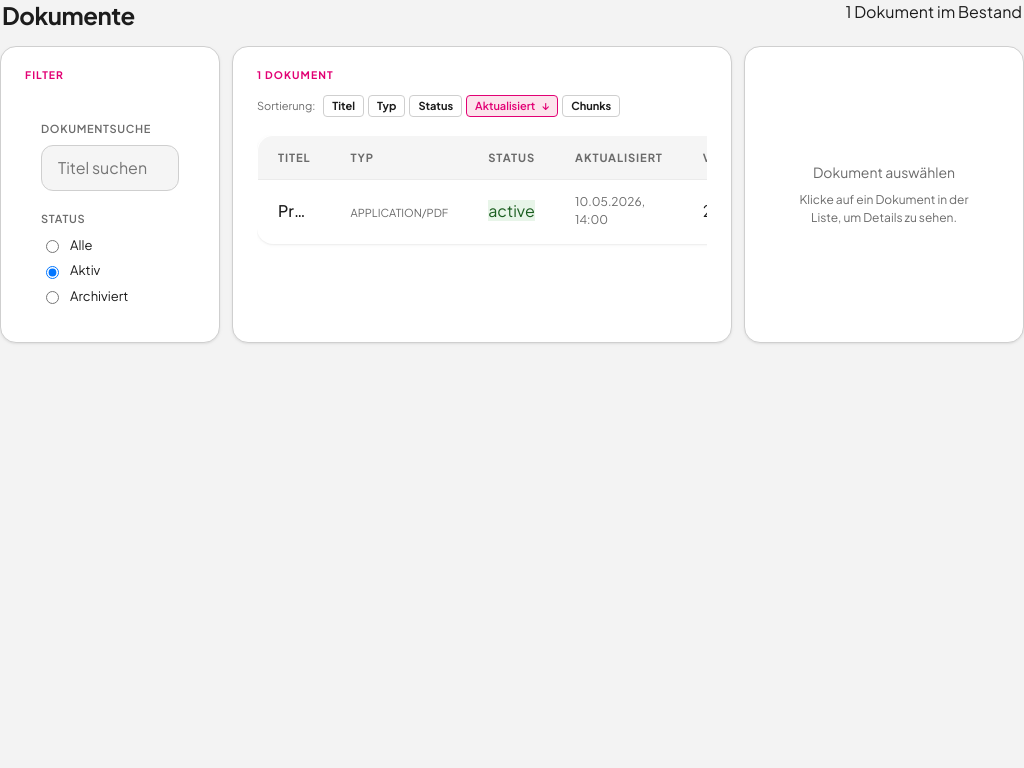
Test: DocumentCenterPage › shows document detail in preview panel on row click
Click the text "Prozesshandbuch Eingang": point(294, 212) 278,200 -> 310,224
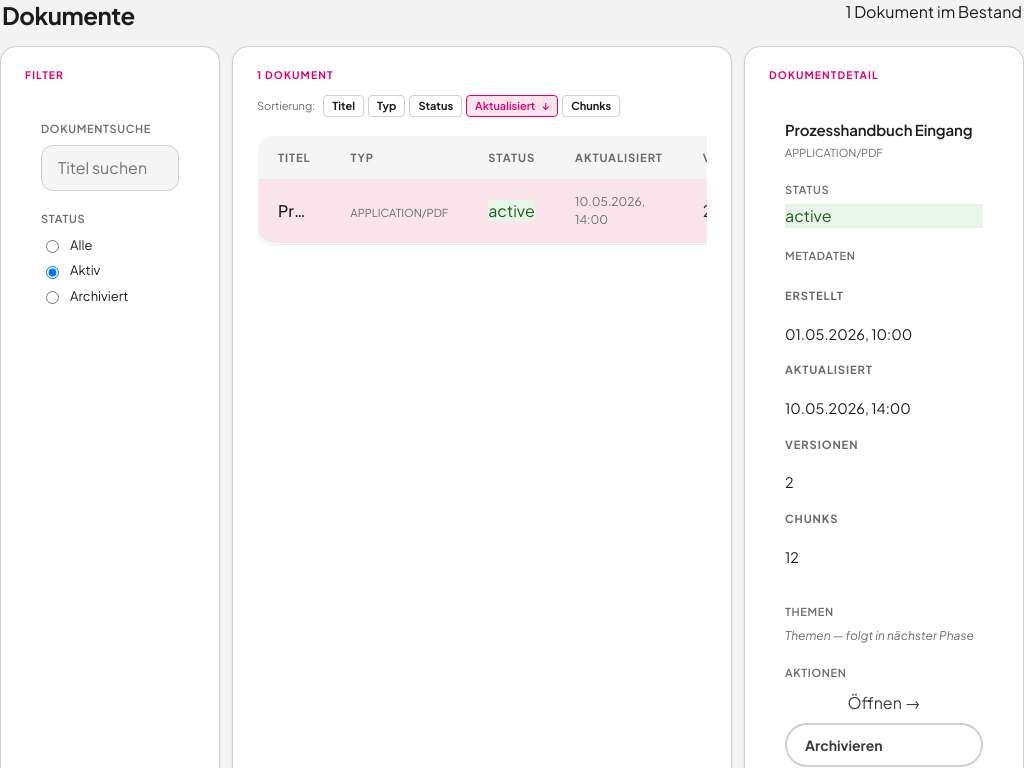
Now the heading "Prozesshandbuch Eingang" is shown, box 785,121 -> 983,139
Now the button "Archivieren" is shown, box 785,724 -> 983,767
